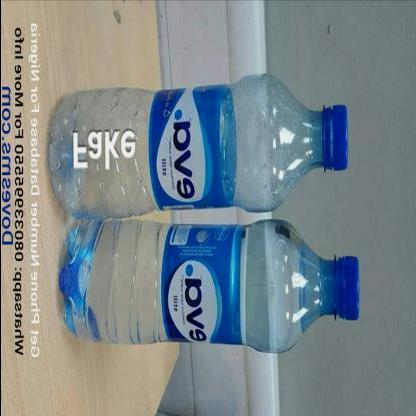bottle: (47, 72, 355, 215), (56, 214, 359, 356)
